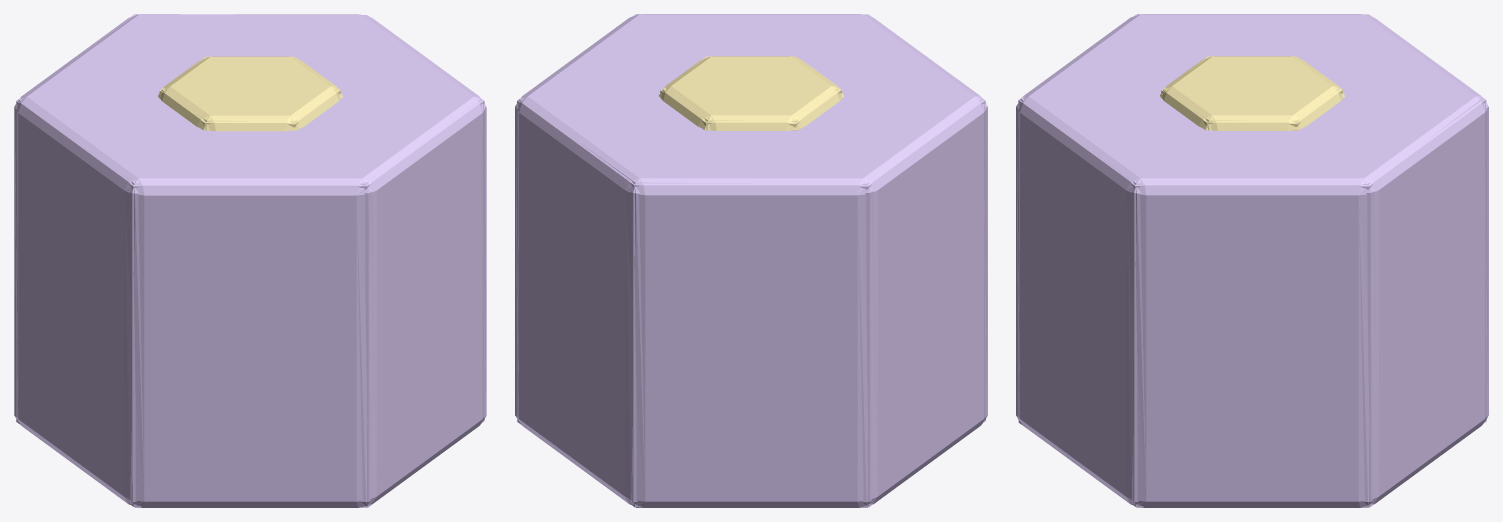
File: SM_Shielder.fbx
3 renders of one model, left to right at view 1: azimuth 30°, elevation 25°; view 2: azimuth 150°, elevation 25°; view 3: azimuth 270°, elevation 25°, orthographic.
Parts seen in each view (by area): view 1: SM_Shielder, LOD1_SM_Shielder, LOD2_SM_Shielder; view 2: SM_Shielder, LOD1_SM_Shielder, LOD2_SM_Shielder; view 3: SM_Shielder, LOD1_SM_Shielder, LOD2_SM_Shielder.
Part boxes in pixels (left/top/right/bottom): SM_Shielder: left=15, top=14, right=484, bottom=507; LOD1_SM_Shielder: left=15, top=14, right=485, bottom=507; LOD2_SM_Shielder: left=14, top=14, right=486, bottom=507; SM_Shielder: left=516, top=14, right=986, bottom=507; LOD1_SM_Shielder: left=516, top=14, right=986, bottom=505; LOD2_SM_Shielder: left=515, top=14, right=987, bottom=507; SM_Shielder: left=1017, top=14, right=1487, bottom=507; LOD1_SM_Shielder: left=1017, top=14, right=1487, bottom=507; LOD2_SM_Shielder: left=1016, top=14, right=1488, bottom=507.
Bounding box in the file's own units: 0.3118 × 0.2907 × 0.356.
